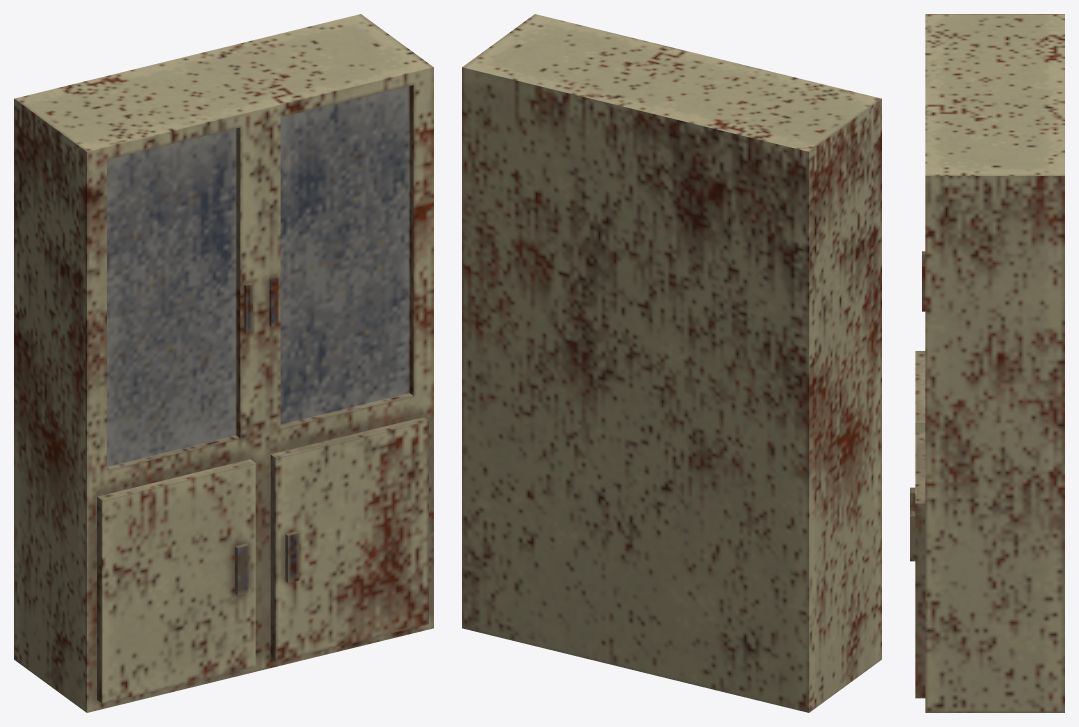
The model's file is cabinet.fbx.
3 renders of one model, left to right at view 1: azimuth 30°, elevation 25°; view 2: azimuth 150°, elevation 25°; view 3: azimuth 270°, elevation 25°, orthographic. The views are drawn at different scales.
Visible parts, largest first — view 1: cabinet; view 2: cabinet; view 3: cabinet.
Part boxes in pixels (x1,y1,x2,y2): cabinet: [14, 14, 433, 712]; cabinet: [462, 14, 881, 712]; cabinet: [910, 14, 1064, 712].
Size of the model in its own units: 110 by 170 by 44.41.
Materials: 1 (1 with a texture image).
